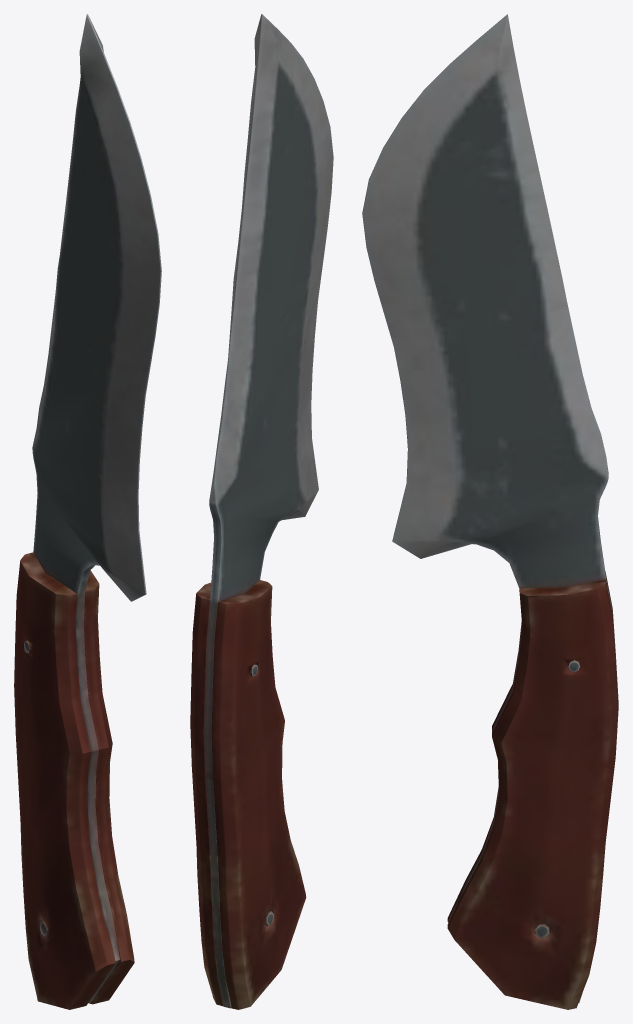
File: butcher_dagger.glb
3 views of the same model, side by side, from view 1: azimuth 30°, elevation 25°; view 2: azimuth 150°, elevation 25°; view 3: azimuth 270°, elevation 25° (orthographic). The views are drawn at different scales.
Parts seen in each view (by area): view 1: Dagger1; view 2: Dagger1; view 3: Dagger1.
Part boxes in pixels (x1=…): Dagger1: x1=14, y1=14, x2=161, y2=1009; Dagger1: x1=190, y1=14, x2=333, y2=1009; Dagger1: x1=362, y1=14, x2=618, y2=1009.
Size of the model in its own units: 0.035 by 0.5996 by 0.141.
1 material, 1 textured.
